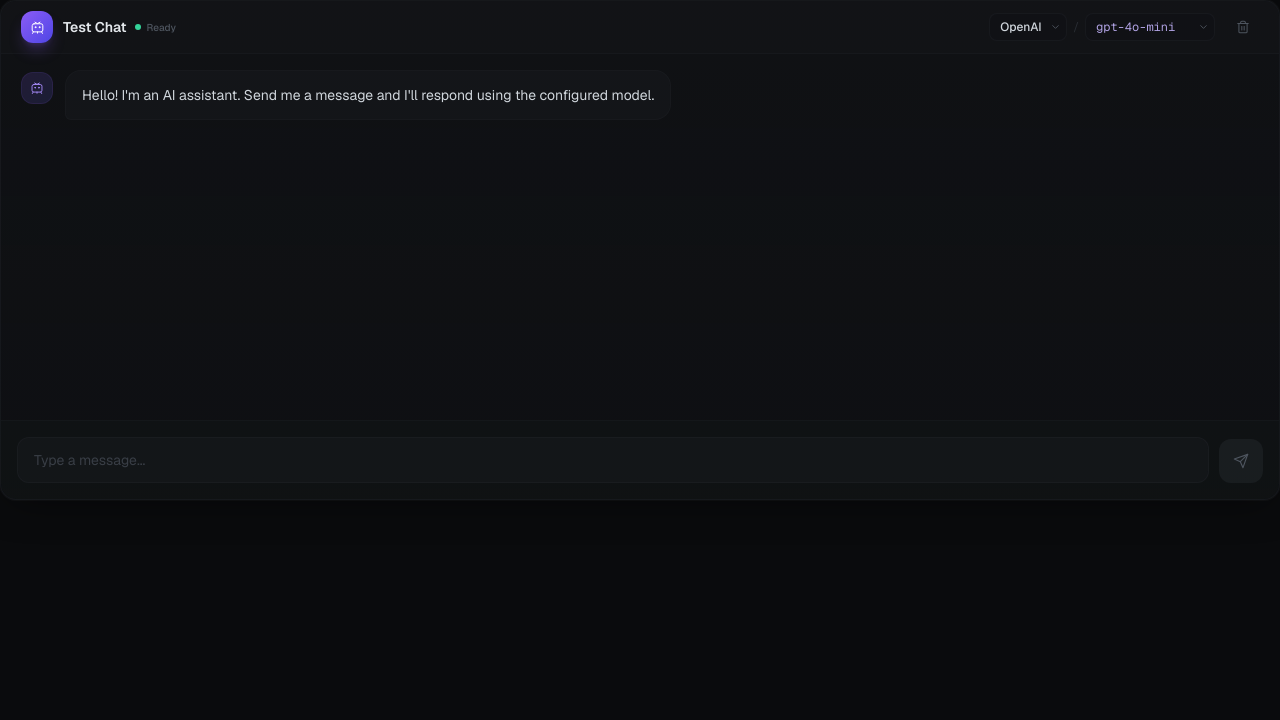
Test: ChatInterface › clears the chat history
Type "first message" into the text box with placeholder "Type a message...".
click(613, 460); type("first message")  # box [17,437,1209,483]
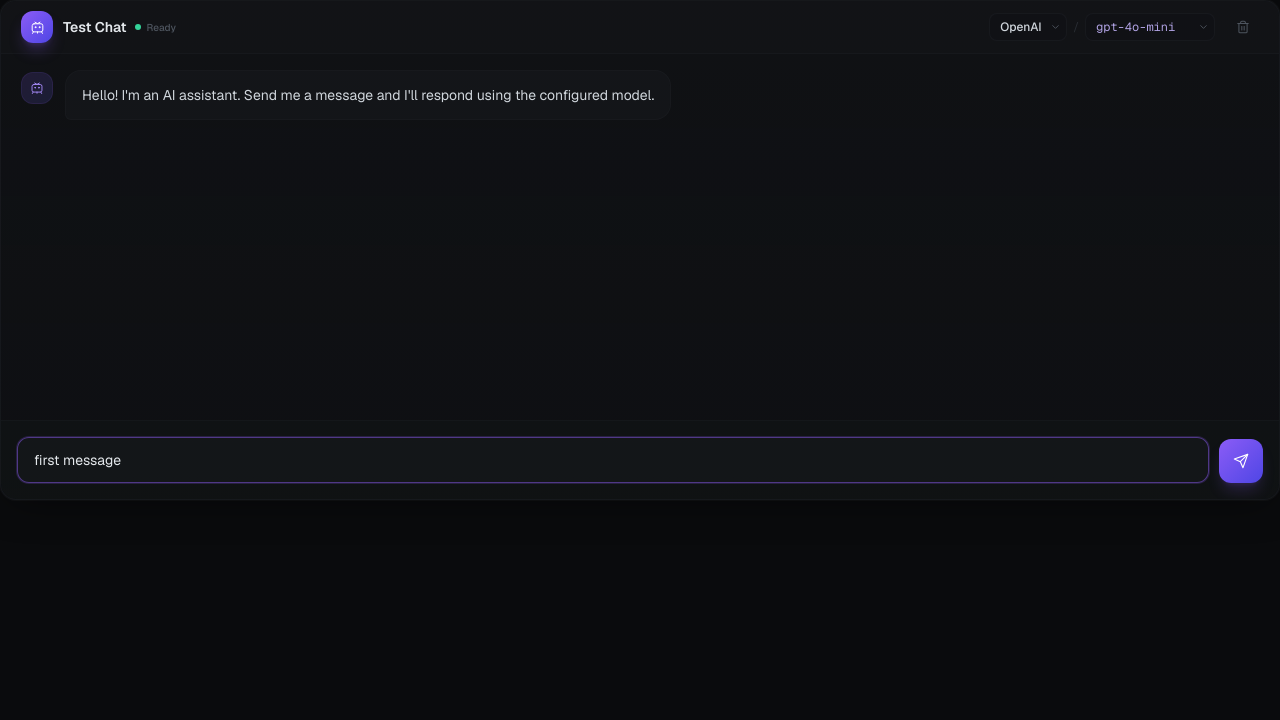
Click the button titled "Clear chat".
click(1243, 27)  # box [1227,11,1259,43]
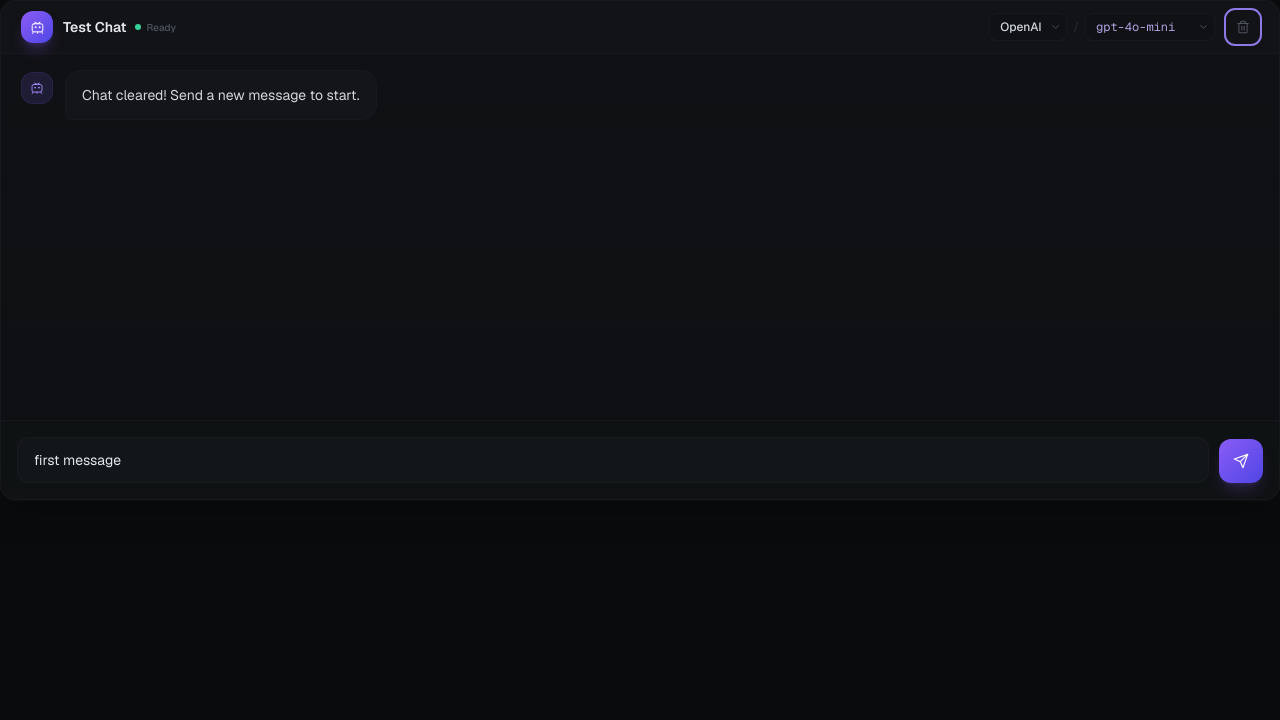
Expected: the text "Chat cleared! Send a new message to start." is shown, [82,83,360,107]
